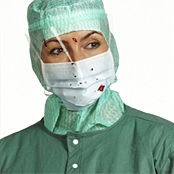face_mask: (38, 15, 111, 102)
